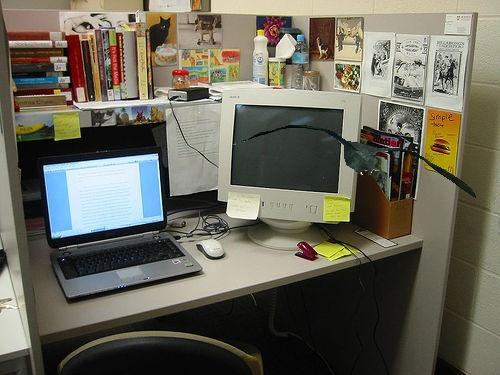tampered: (234, 126, 476, 198)
